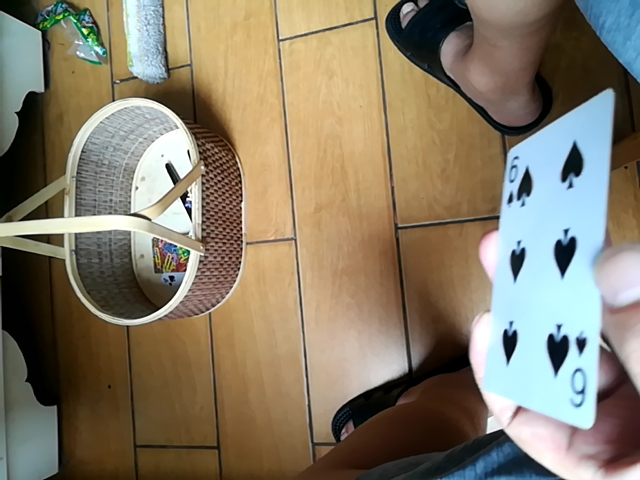ht 6: (476, 83, 617, 451)
